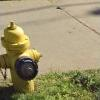a fire hydrant: (2, 20, 41, 86)
